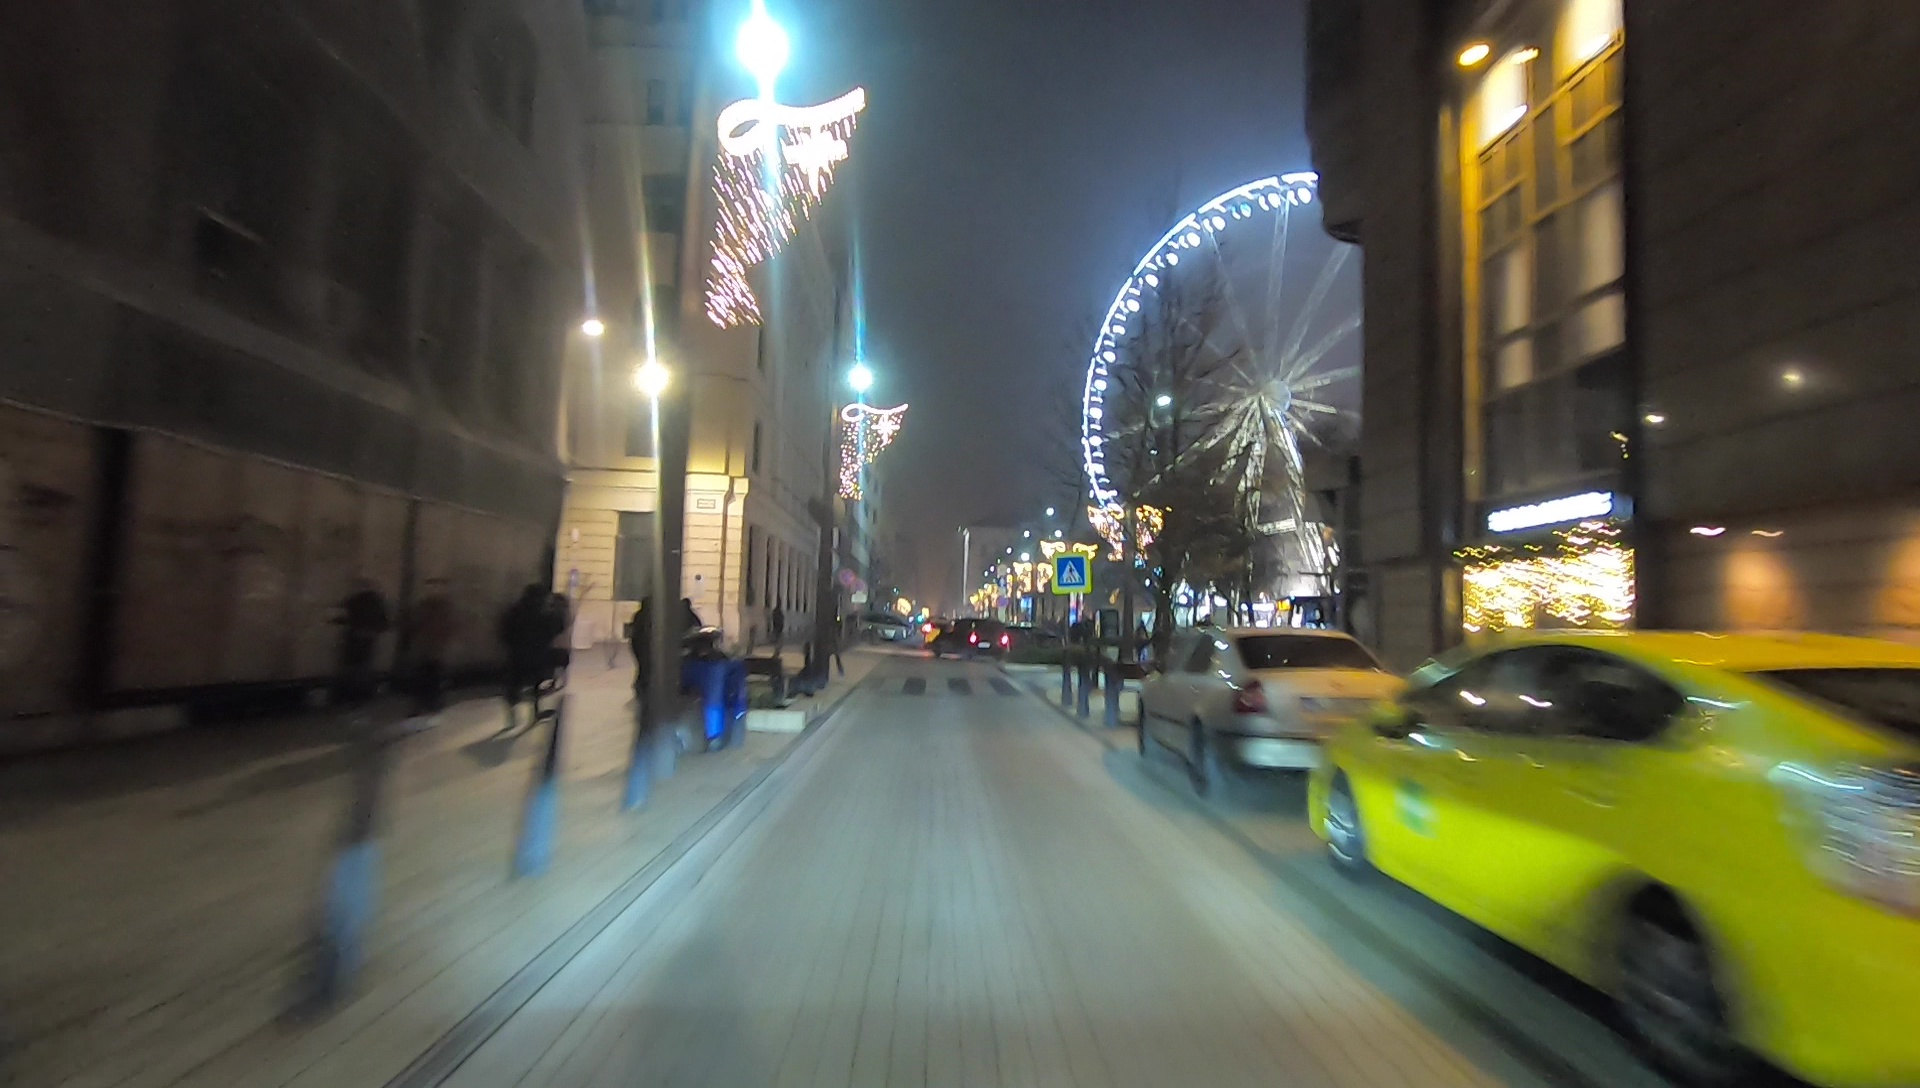person: (499, 582, 556, 734), (336, 578, 389, 730), (412, 576, 460, 723)
